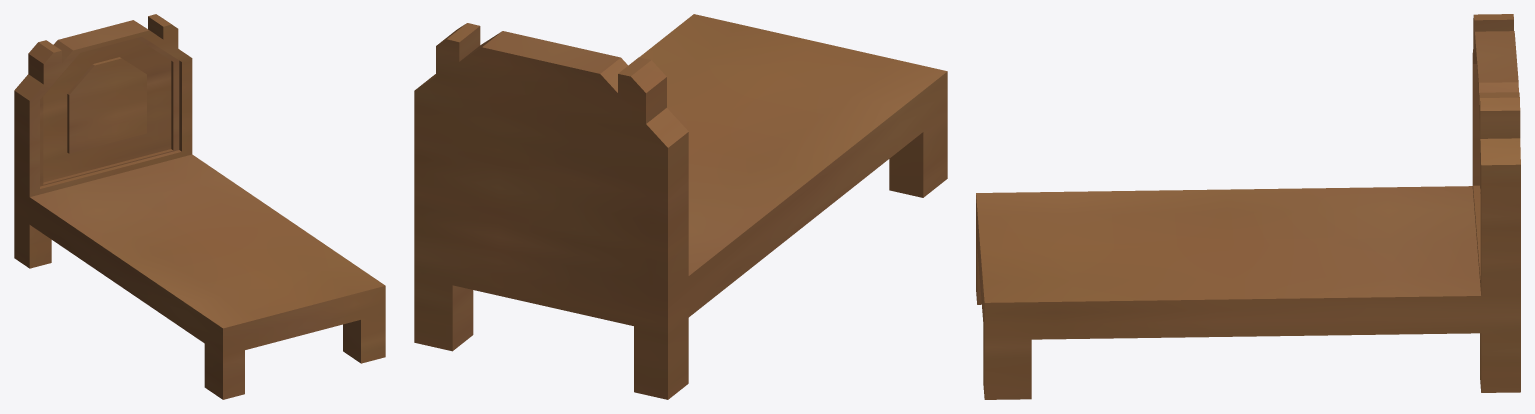
File: mueble cama.fbx
3 renders of one model, left to right at view 1: azimuth 30°, elevation 25°; view 2: azimuth 150°, elevation 25°; view 3: azimuth 270°, elevation 25°, orthographic. The views are drawn at different scales.
Visible parts, largest first — view 1: Cube.008; view 2: Cube.008; view 3: Cube.008.
Boxes of the visible parts, <box> form: Cube.008: <box>14,14,385,399</box>; Cube.008: <box>414,14,947,399</box>; Cube.008: <box>976,14,1520,399</box>.
Bounding box in the file's own units: 102 × 116 × 200.
